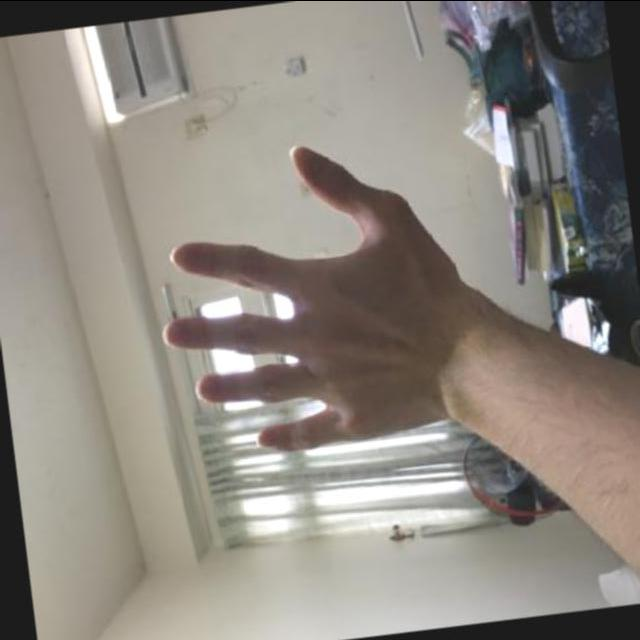hand: (133, 114, 513, 478)
